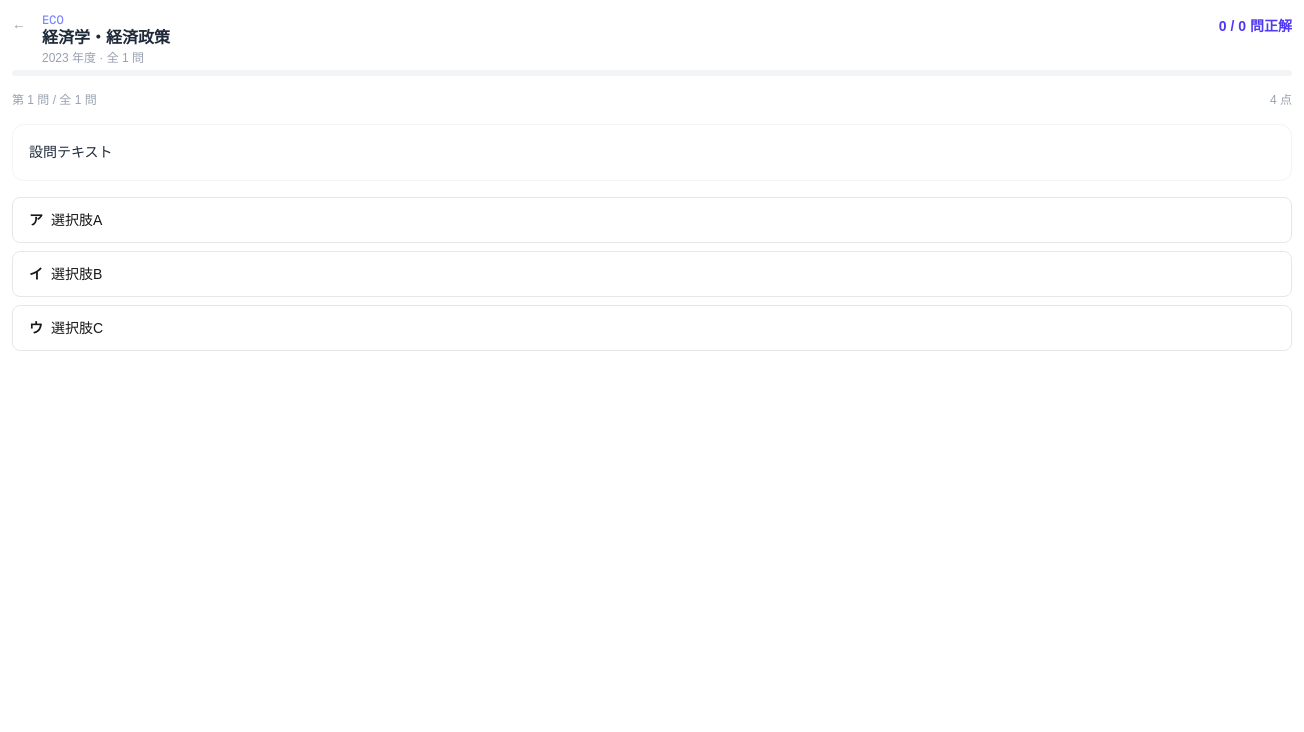
Test: QuizSession › 正解フロー › 正解の選択肢をクリックすると「正解」バッジが表示される
Step 1. Click the button "選択肢A" → x=77, y=220, box [12,197,1292,243]
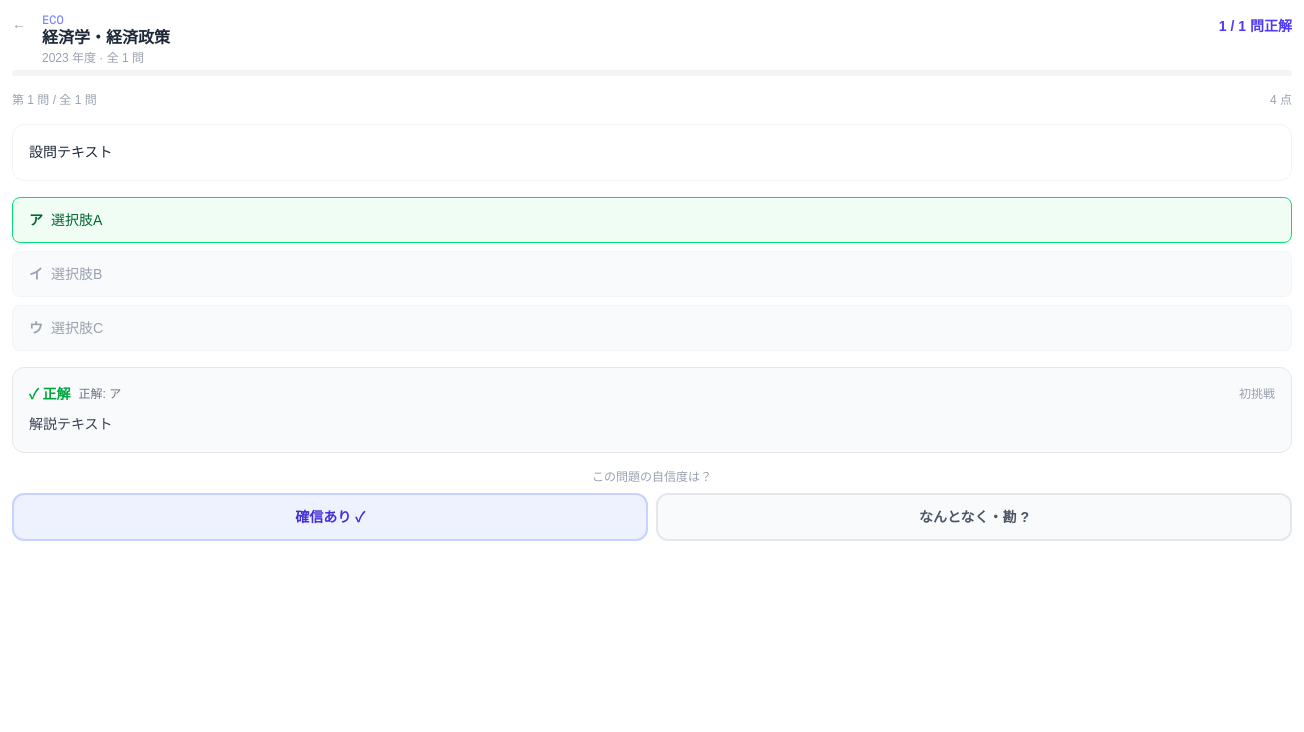
Now the text "✓ 正解" is shown, box [29,384,70,404]
